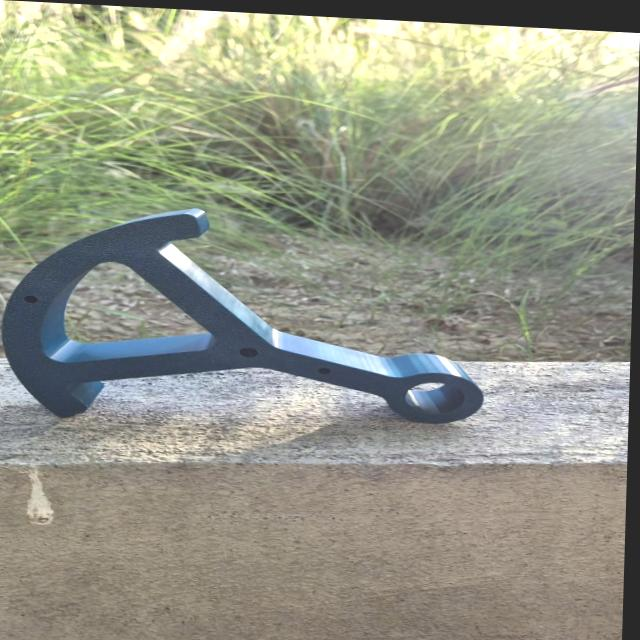haptic: (0, 197, 493, 441)
